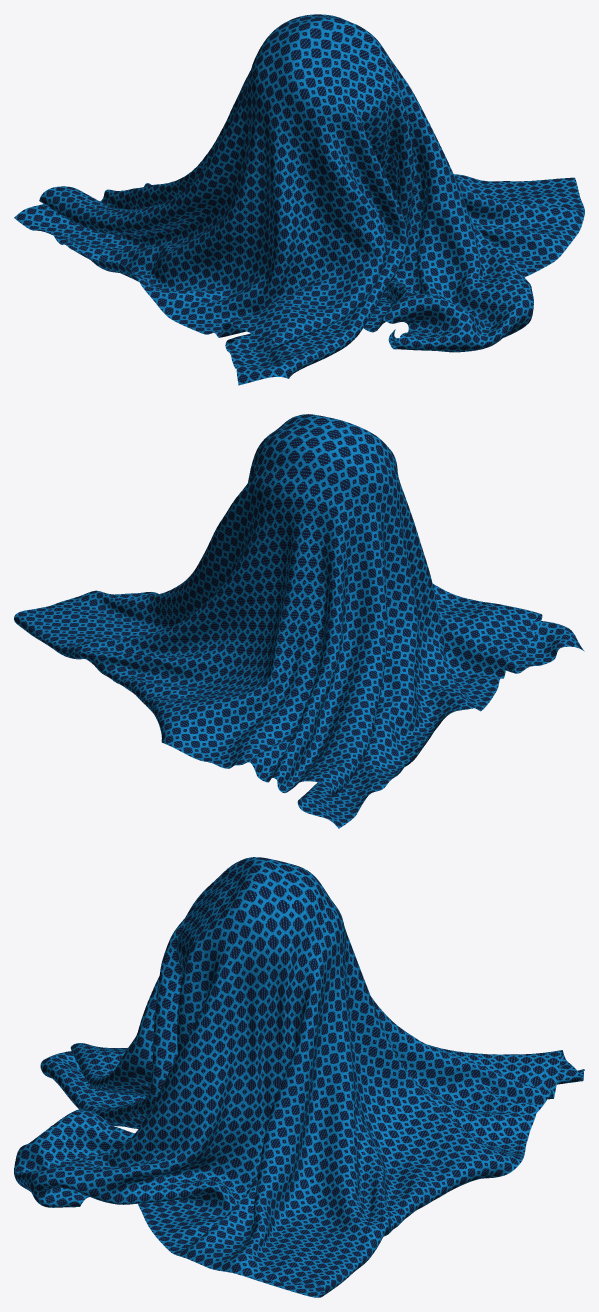
The model's file is SheenCloth.glb.
3 views of the same model, one above another, from view 1: azimuth 30°, elevation 25°; view 2: azimuth 150°, elevation 25°; view 3: azimuth 270°, elevation 25° (orthographic). The views are drawn at different scales.
Parts seen in each view (by area): view 1: SheenCloth_mesh; view 2: SheenCloth_mesh; view 3: SheenCloth_mesh.
Part boxes in pixels (x1=…): SheenCloth_mesh: x1=14, y1=14, x2=584, y2=385; SheenCloth_mesh: x1=14, y1=414, x2=584, y2=828; SheenCloth_mesh: x1=14, y1=857, x2=584, y2=1297.
Bounding box in the file's own units: 0.0721 × 0.0403 × 0.0713.
1 material, 1 textured.
